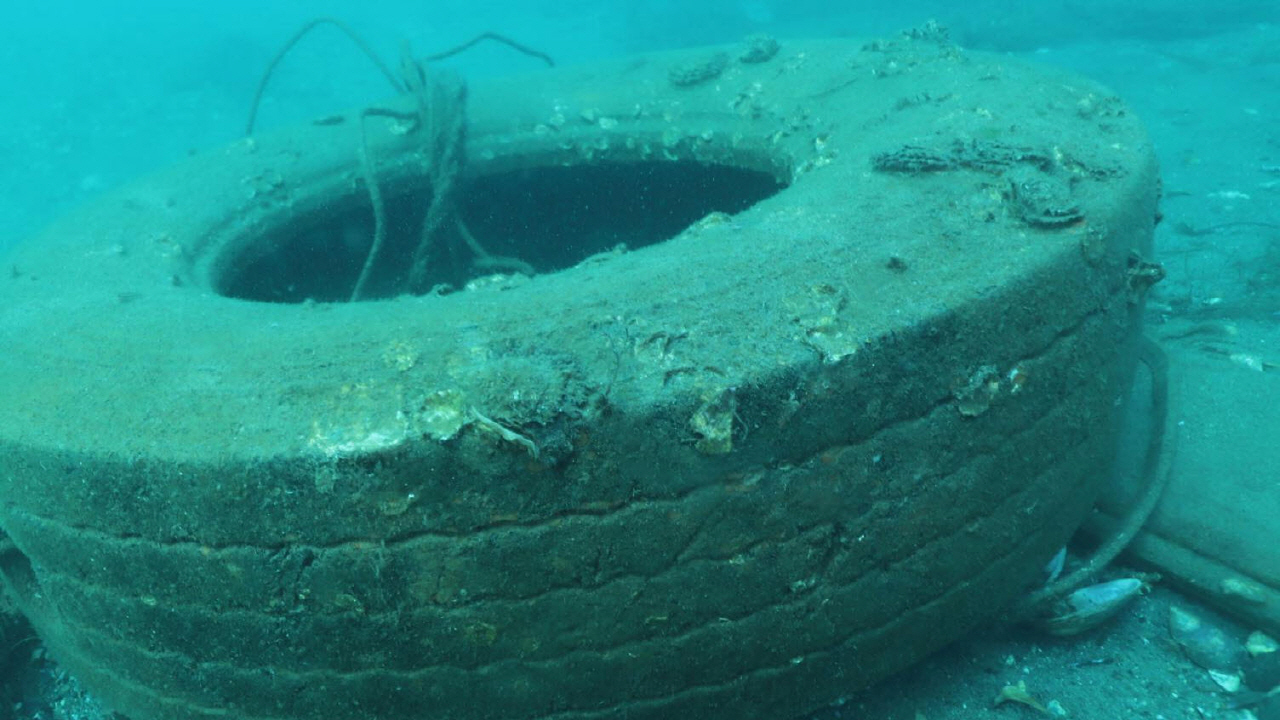bundle of ropes: (241, 12, 568, 303)
tire: (0, 33, 1164, 720)
